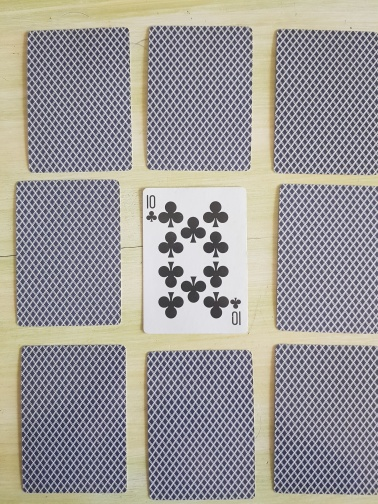ten: (141, 186, 249, 335)
